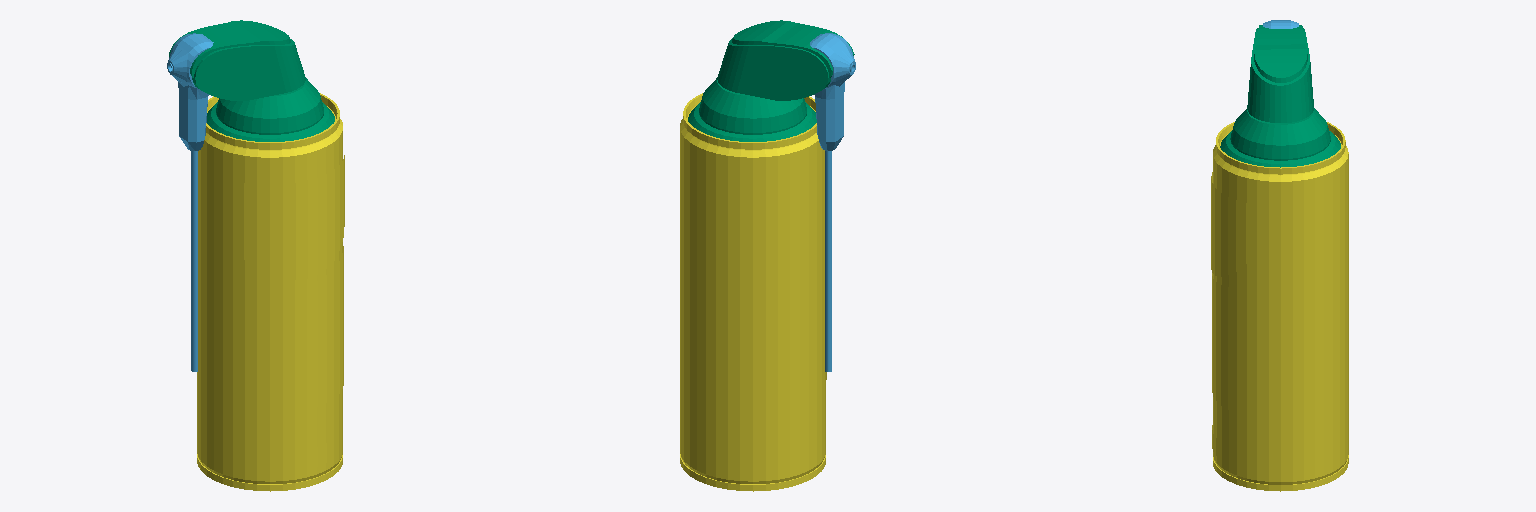
URDF robot description (partnet_b3928672-a119-4cce-8209-947ddf8d0736):
<?xml version="1.0" ?>
<robot name="partnet_b3928672-a119-4cce-8209-947ddf8d0736">
	<link name="base"/>
	<link name="link_0">
		<visual name="handle-1">
			<origin xyz="-0.0993473436207748 -0.8843194583468035 -0.2927493574344986"/>
			<geometry>
				<mesh filename="textured_objs/original-5.obj"/>
			</geometry>
		</visual>
		<visual name="handle-1">
			<origin xyz="-0.0993473436207748 -0.8843194583468035 -0.2927493574344986"/>
			<geometry>
				<mesh filename="textured_objs/original-9.obj"/>
			</geometry>
		</visual>
		<visual name="handle-1">
			<origin xyz="-0.0993473436207748 -0.8843194583468035 -0.2927493574344986"/>
			<geometry>
				<mesh filename="textured_objs/original-10.obj"/>
			</geometry>
		</visual>
		<visual name="handle-1">
			<origin xyz="-0.0993473436207748 -0.8843194583468035 -0.2927493574344986"/>
			<geometry>
				<mesh filename="textured_objs/original-6.obj"/>
			</geometry>
		</visual>
		<visual name="handle-1">
			<origin xyz="-0.0993473436207748 -0.8843194583468035 -0.2927493574344986"/>
			<geometry>
				<mesh filename="textured_objs/original-11.obj"/>
			</geometry>
		</visual>
		<visual name="handle-1">
			<origin xyz="-0.0993473436207748 -0.8843194583468035 -0.2927493574344986"/>
			<geometry>
				<mesh filename="textured_objs/original-7.obj"/>
			</geometry>
		</visual>
		<collision>
			<origin xyz="-0.0993473436207748 -0.8843194583468035 -0.2927493574344986"/>
			<geometry>
				<mesh filename="textured_objs/original-5.obj"/>
			</geometry>
		</collision>
		<collision>
			<origin xyz="-0.0993473436207748 -0.8843194583468035 -0.2927493574344986"/>
			<geometry>
				<mesh filename="textured_objs/original-9.obj"/>
			</geometry>
		</collision>
		<collision>
			<origin xyz="-0.0993473436207748 -0.8843194583468035 -0.2927493574344986"/>
			<geometry>
				<mesh filename="textured_objs/original-10.obj"/>
			</geometry>
		</collision>
		<collision>
			<origin xyz="-0.0993473436207748 -0.8843194583468035 -0.2927493574344986"/>
			<geometry>
				<mesh filename="textured_objs/original-6.obj"/>
			</geometry>
		</collision>
		<collision>
			<origin xyz="-0.0993473436207748 -0.8843194583468035 -0.2927493574344986"/>
			<geometry>
				<mesh filename="textured_objs/original-11.obj"/>
			</geometry>
		</collision>
		<collision>
			<origin xyz="-0.0993473436207748 -0.8843194583468035 -0.2927493574344986"/>
			<geometry>
				<mesh filename="textured_objs/original-7.obj"/>
			</geometry>
		</collision>
	</link>
	<joint name="joint_0" type="revolute">
		<origin xyz="0.1053057632725008 0.8843194583468035 0.3405295575702287"/>
		<axis xyz="-0.9950291690456936 -0.06015729082584178 -0.07936027412207948"/>
		<child link="link_0"/>
		<parent link="link_1"/>
		<limit lower="-0.0" upper="1.7453292519943295"/>
	</joint>
	<link name="link_1">
		<visual name="head-3">
			<origin xyz="0.005958419651725999 0 0.04778020013573008"/>
			<geometry>
				<mesh filename="textured_objs/original-20.obj"/>
			</geometry>
		</visual>
		<visual name="head-3">
			<origin xyz="0.005958419651725999 0 0.04778020013573008"/>
			<geometry>
				<mesh filename="textured_objs/original-42.obj"/>
			</geometry>
		</visual>
		<visual name="head-3">
			<origin xyz="0.005958419651725999 0 0.04778020013573008"/>
			<geometry>
				<mesh filename="textured_objs/original-21.obj"/>
			</geometry>
		</visual>
		<visual name="head-3">
			<origin xyz="0.005958419651725999 0 0.04778020013573008"/>
			<geometry>
				<mesh filename="textured_objs/original-43.obj"/>
			</geometry>
		</visual>
		<collision>
			<origin xyz="0.005958419651725999 0 0.04778020013573008"/>
			<geometry>
				<mesh filename="textured_objs/original-20.obj"/>
			</geometry>
		</collision>
		<collision>
			<origin xyz="0.005958419651725999 0 0.04778020013573008"/>
			<geometry>
				<mesh filename="textured_objs/original-42.obj"/>
			</geometry>
		</collision>
		<collision>
			<origin xyz="0.005958419651725999 0 0.04778020013573008"/>
			<geometry>
				<mesh filename="textured_objs/original-21.obj"/>
			</geometry>
		</collision>
		<collision>
			<origin xyz="0.005958419651725999 0 0.04778020013573008"/>
			<geometry>
				<mesh filename="textured_objs/original-43.obj"/>
			</geometry>
		</collision>
	</link>
	<joint name="joint_1" type="continuous">
		<origin xyz="0.0 0 0.0"/>
		<axis xyz="0 1 0"/>
		<child link="link_1"/>
		<parent link="link_1_helper"/>
	</joint>
	<link name="link_2">
		<visual name="base_body-4">
			<origin xyz="0 0 0"/>
			<geometry>
				<mesh filename="textured_objs/original-30.obj"/>
			</geometry>
		</visual>
		<visual name="base_body-4">
			<origin xyz="0 0 0"/>
			<geometry>
				<mesh filename="textured_objs/original-36.obj"/>
			</geometry>
		</visual>
		<visual name="base_body-4">
			<origin xyz="0 0 0"/>
			<geometry>
				<mesh filename="textured_objs/original-28.obj"/>
			</geometry>
		</visual>
		<visual name="base_body-4">
			<origin xyz="0 0 0"/>
			<geometry>
				<mesh filename="textured_objs/original-22.obj"/>
			</geometry>
		</visual>
		<visual name="base_body-4">
			<origin xyz="0 0 0"/>
			<geometry>
				<mesh filename="textured_objs/original-26.obj"/>
			</geometry>
		</visual>
		<visual name="base_body-4">
			<origin xyz="0 0 0"/>
			<geometry>
				<mesh filename="textured_objs/original-33.obj"/>
			</geometry>
		</visual>
		<visual name="base_body-4">
			<origin xyz="0 0 0"/>
			<geometry>
				<mesh filename="textured_objs/original-44.obj"/>
			</geometry>
		</visual>
		<visual name="base_body-4">
			<origin xyz="0 0 0"/>
			<geometry>
				<mesh filename="textured_objs/original-16.obj"/>
			</geometry>
		</visual>
		<visual name="base_body-4">
			<origin xyz="0 0 0"/>
			<geometry>
				<mesh filename="textured_objs/original-13.obj"/>
			</geometry>
		</visual>
		<visual name="base_body-4">
			<origin xyz="0 0 0"/>
			<geometry>
				<mesh filename="textured_objs/original-35.obj"/>
			</geometry>
		</visual>
		<visual name="base_body-4">
			<origin xyz="0 0 0"/>
			<geometry>
				<mesh filename="textured_objs/original-39.obj"/>
			</geometry>
		</visual>
		<visual name="base_body-4">
			<origin xyz="0 0 0"/>
			<geometry>
				<mesh filename="textured_objs/original-27.obj"/>
			</geometry>
		</visual>
		<visual name="base_body-4">
			<origin xyz="0 0 0"/>
			<geometry>
				<mesh filename="textured_objs/original-31.obj"/>
			</geometry>
		</visual>
		<visual name="base_body-4">
			<origin xyz="0 0 0"/>
			<geometry>
				<mesh filename="textured_objs/original-37.obj"/>
			</geometry>
		</visual>
		<visual name="base_body-4">
			<origin xyz="0 0 0"/>
			<geometry>
				<mesh filename="textured_objs/original-15.obj"/>
			</geometry>
		</visual>
		<visual name="base_body-4">
			<origin xyz="0 0 0"/>
			<geometry>
				<mesh filename="textured_objs/original-23.obj"/>
			</geometry>
		</visual>
		<visual name="base_body-4">
			<origin xyz="0 0 0"/>
			<geometry>
				<mesh filename="textured_objs/original-38.obj"/>
			</geometry>
		</visual>
		<visual name="base_body-4">
			<origin xyz="0 0 0"/>
			<geometry>
				<mesh filename="textured_objs/original-34.obj"/>
			</geometry>
		</visual>
		<visual name="base_body-4">
			<origin xyz="0 0 0"/>
			<geometry>
				<mesh filename="textured_objs/original-18.obj"/>
			</geometry>
		</visual>
		<visual name="base_body-4">
			<origin xyz="0 0 0"/>
			<geometry>
				<mesh filename="textured_objs/original-25.obj"/>
			</geometry>
		</visual>
		<visual name="base_body-4">
			<origin xyz="0 0 0"/>
			<geometry>
				<mesh filename="textured_objs/original-17.obj"/>
			</geometry>
		</visual>
		<visual name="base_body-4">
			<origin xyz="0 0 0"/>
			<geometry>
				<mesh filename="textured_objs/original-24.obj"/>
			</geometry>
		</visual>
		<visual name="base_body-4">
			<origin xyz="0 0 0"/>
			<geometry>
				<mesh filename="textured_objs/original-32.obj"/>
			</geometry>
		</visual>
		<visual name="base_body-4">
			<origin xyz="0 0 0"/>
			<geometry>
				<mesh filename="textured_objs/original-1.obj"/>
			</geometry>
		</visual>
		<visual name="base_body-4">
			<origin xyz="0 0 0"/>
			<geometry>
				<mesh filename="textured_objs/original-14.obj"/>
			</geometry>
		</visual>
		<visual name="base_body-4">
			<origin xyz="0 0 0"/>
			<geometry>
				<mesh filename="textured_objs/original-19.obj"/>
			</geometry>
		</visual>
		<visual name="base_body-4">
			<origin xyz="0 0 0"/>
			<geometry>
				<mesh filename="textured_objs/original-40.obj"/>
			</geometry>
		</visual>
		<collision>
			<origin xyz="0 0 0"/>
			<geometry>
				<mesh filename="textured_objs/original-30.obj"/>
			</geometry>
		</collision>
		<collision>
			<origin xyz="0 0 0"/>
			<geometry>
				<mesh filename="textured_objs/original-36.obj"/>
			</geometry>
		</collision>
		<collision>
			<origin xyz="0 0 0"/>
			<geometry>
				<mesh filename="textured_objs/original-28.obj"/>
			</geometry>
		</collision>
		<collision>
			<origin xyz="0 0 0"/>
			<geometry>
				<mesh filename="textured_objs/original-22.obj"/>
			</geometry>
		</collision>
		<collision>
			<origin xyz="0 0 0"/>
			<geometry>
				<mesh filename="textured_objs/original-26.obj"/>
			</geometry>
		</collision>
		<collision>
			<origin xyz="0 0 0"/>
			<geometry>
				<mesh filename="textured_objs/original-33.obj"/>
			</geometry>
		</collision>
		<collision>
			<origin xyz="0 0 0"/>
			<geometry>
				<mesh filename="textured_objs/original-44.obj"/>
			</geometry>
		</collision>
		<collision>
			<origin xyz="0 0 0"/>
			<geometry>
				<mesh filename="textured_objs/original-16.obj"/>
			</geometry>
		</collision>
		<collision>
			<origin xyz="0 0 0"/>
			<geometry>
				<mesh filename="textured_objs/original-13.obj"/>
			</geometry>
		</collision>
		<collision>
			<origin xyz="0 0 0"/>
			<geometry>
				<mesh filename="textured_objs/original-35.obj"/>
			</geometry>
		</collision>
		<collision>
			<origin xyz="0 0 0"/>
			<geometry>
				<mesh filename="textured_objs/original-39.obj"/>
			</geometry>
		</collision>
		<collision>
			<origin xyz="0 0 0"/>
			<geometry>
				<mesh filename="textured_objs/original-27.obj"/>
			</geometry>
		</collision>
		<collision>
			<origin xyz="0 0 0"/>
			<geometry>
				<mesh filename="textured_objs/original-31.obj"/>
			</geometry>
		</collision>
		<collision>
			<origin xyz="0 0 0"/>
			<geometry>
				<mesh filename="textured_objs/original-37.obj"/>
			</geometry>
		</collision>
		<collision>
			<origin xyz="0 0 0"/>
			<geometry>
				<mesh filename="textured_objs/original-15.obj"/>
			</geometry>
		</collision>
		<collision>
			<origin xyz="0 0 0"/>
			<geometry>
				<mesh filename="textured_objs/original-23.obj"/>
			</geometry>
		</collision>
		<collision>
			<origin xyz="0 0 0"/>
			<geometry>
				<mesh filename="textured_objs/original-38.obj"/>
			</geometry>
		</collision>
		<collision>
			<origin xyz="0 0 0"/>
			<geometry>
				<mesh filename="textured_objs/original-34.obj"/>
			</geometry>
		</collision>
		<collision>
			<origin xyz="0 0 0"/>
			<geometry>
				<mesh filename="textured_objs/original-18.obj"/>
			</geometry>
		</collision>
		<collision>
			<origin xyz="0 0 0"/>
			<geometry>
				<mesh filename="textured_objs/original-25.obj"/>
			</geometry>
		</collision>
		<collision>
			<origin xyz="0 0 0"/>
			<geometry>
				<mesh filename="textured_objs/original-17.obj"/>
			</geometry>
		</collision>
		<collision>
			<origin xyz="0 0 0"/>
			<geometry>
				<mesh filename="textured_objs/original-24.obj"/>
			</geometry>
		</collision>
		<collision>
			<origin xyz="0 0 0"/>
			<geometry>
				<mesh filename="textured_objs/original-32.obj"/>
			</geometry>
		</collision>
		<collision>
			<origin xyz="0 0 0"/>
			<geometry>
				<mesh filename="textured_objs/original-1.obj"/>
			</geometry>
		</collision>
		<collision>
			<origin xyz="0 0 0"/>
			<geometry>
				<mesh filename="textured_objs/original-14.obj"/>
			</geometry>
		</collision>
		<collision>
			<origin xyz="0 0 0"/>
			<geometry>
				<mesh filename="textured_objs/original-19.obj"/>
			</geometry>
		</collision>
		<collision>
			<origin xyz="0 0 0"/>
			<geometry>
				<mesh filename="textured_objs/original-40.obj"/>
			</geometry>
		</collision>
	</link>
	<joint name="joint_2" type="fixed">
		<origin rpy="1.570796326794897 0 -1.570796326794897" xyz="0 0 0"/>
		<child link="link_2"/>
		<parent link="base"/>
	</joint>
	<link name="link_1_helper"/>
	<joint name="joint_3" type="prismatic">
		<origin xyz="-0.005958419651725999 0 -0.04778020013573008"/>
		<axis xyz="0 1 0"/>
		<child link="link_1_helper"/>
		<parent link="link_2"/>
		<limit lower="0" upper="0.04"/>
	</joint>
</robot>

--- Facts derived from the render (not from the file) ---
Views: 3 orthographic renders of the robot side by side, from view 1: azimuth 30°, elevation 25°; view 2: azimuth 150°, elevation 25°; view 3: azimuth 270°, elevation 25°.
Model partnet_b3928672-a119-4cce-8209-947ddf8d0736 with 5 links and 4 joints (1 revolute, 1 continuous, 1 prismatic, 1 fixed), rooted at base, posed all joints at 0.
Visible links, largest first — view 1: link_2, link_1, link_0; view 2: link_2, link_1, link_0; view 3: link_2, link_1.
Link boxes in pixels (x1=…): link_2: x1=197, y1=93, x2=344, y2=491; link_1: x1=169, y1=20, x2=334, y2=141; link_0: x1=167, y1=33, x2=213, y2=371; link_2: x1=680, y1=93, x2=826, y2=491; link_1: x1=688, y1=20, x2=854, y2=141; link_0: x1=810, y1=33, x2=855, y2=371; link_2: x1=1211, y1=122, x2=1348, y2=491; link_1: x1=1220, y1=25, x2=1340, y2=167.
Bounding box of the posed robot: 0.7424 × 0.5819 × 1.9 m (x, y, z).
Meshes: 37 distinct files referenced, 37 mesh visuals loaded (37 OBJ).